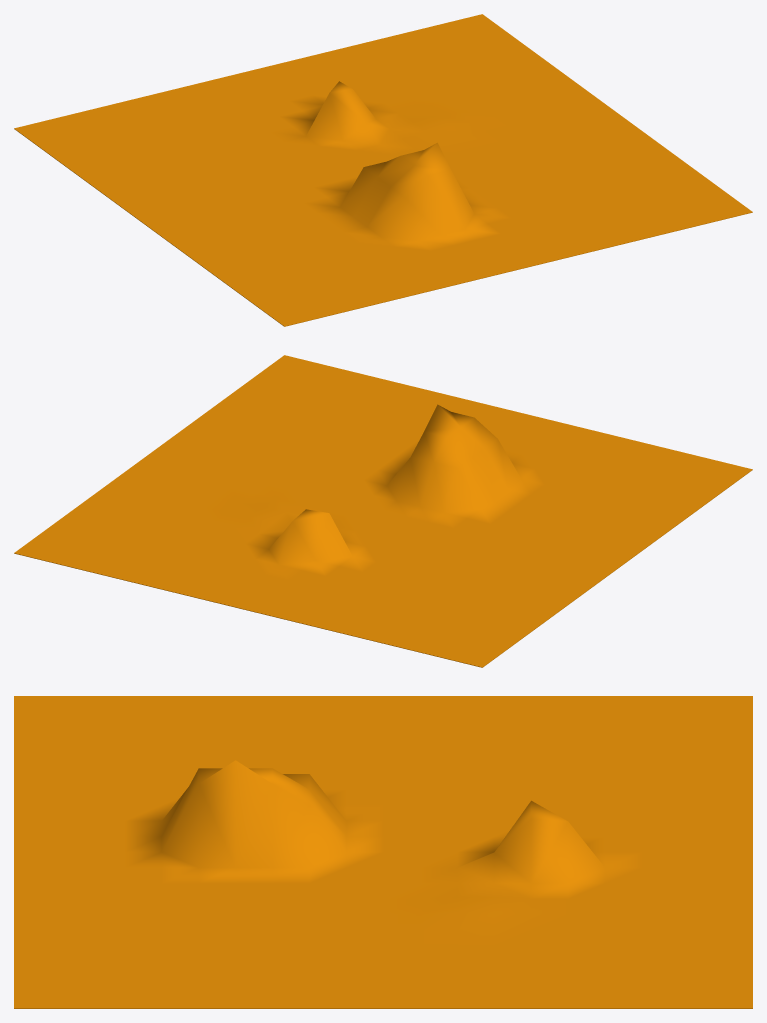
The model's file is ground2.fbx.
3 views of the same model, one above another, from view 1: azimuth 30°, elevation 25°; view 2: azimuth 150°, elevation 25°; view 3: azimuth 270°, elevation 25° (orthographic). The views are drawn at different scales.
Visible parts, largest first — view 1: pCube1; view 2: pCube1; view 3: pCube1.
Part boxes in pixels (bbox=[...]): pCube1: bbox=[14, 14, 752, 326]; pCube1: bbox=[14, 355, 752, 667]; pCube1: bbox=[14, 696, 752, 1008].
Size of the model in its own units: 60.44 by 8.36 by 60.44.
